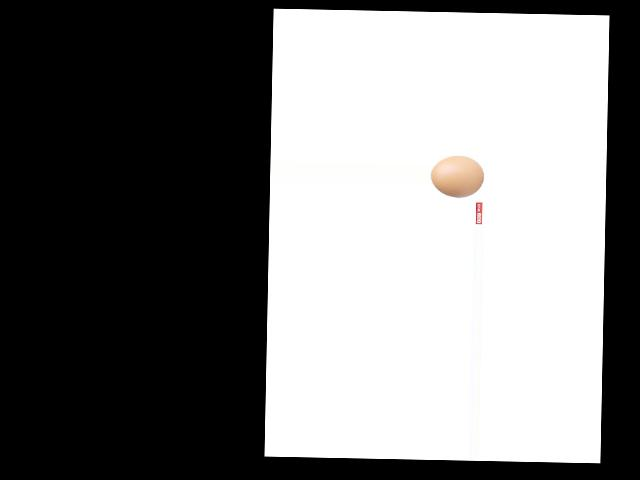egg: (431, 154, 484, 197)
